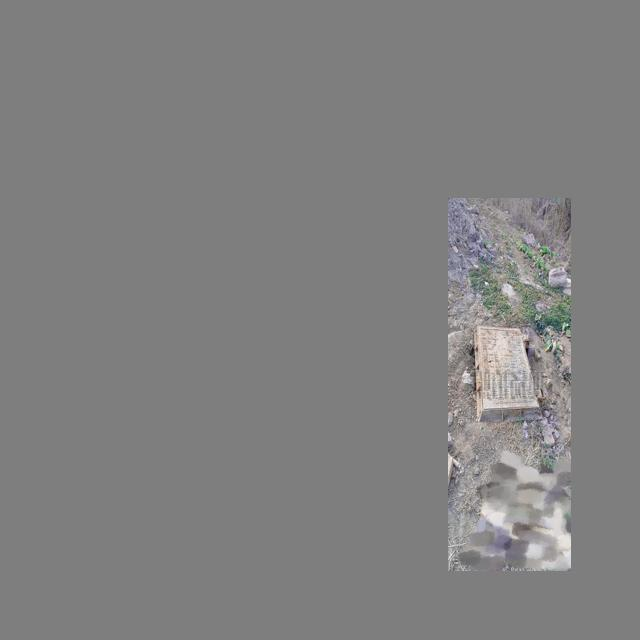circle: (472, 322, 546, 424)
